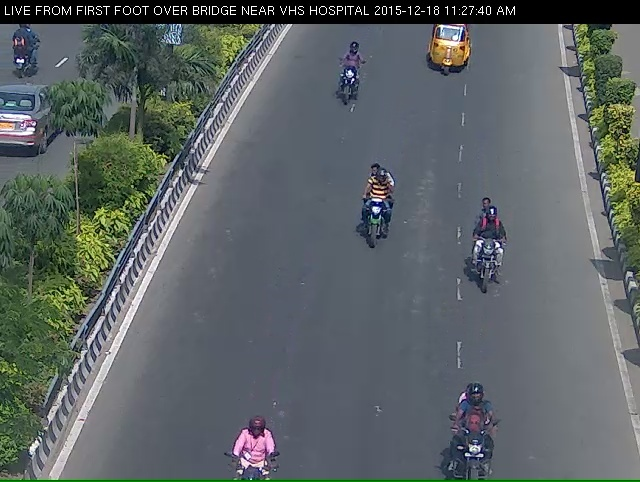Car: (425, 24, 480, 94)
Person: (467, 208, 518, 308), (350, 178, 393, 275), (330, 49, 359, 116)
